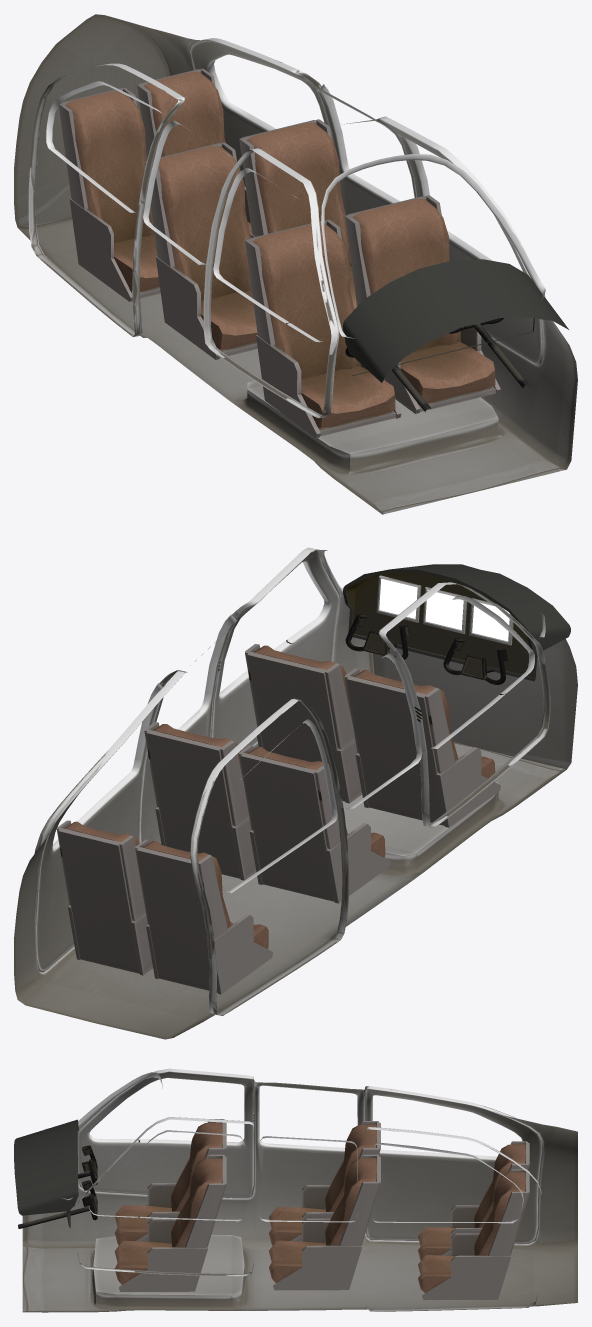
Rendered from GaugeAircraft_Interior_LOD00.gltf.
The picture shows the model from 3 angles, top to bottom: view 1: azimuth 30°, elevation 25°; view 2: azimuth 150°, elevation 25°; view 3: azimuth 270°, elevation 25°; orthographic projection. The views are drawn at different scales.
Parts seen in each view (by area): view 1: Interior; view 2: Interior, Screens; view 3: Interior.
Boxes of the visible parts, x1,y1,x2,y2 form: Interior: [14, 14, 577, 514]; Interior: [14, 547, 577, 1039]; Screens: [379, 578, 509, 641]; Interior: [14, 1068, 577, 1312].
Bounding box in the file's own units: 1.26 × 1.4 × 3.7.
